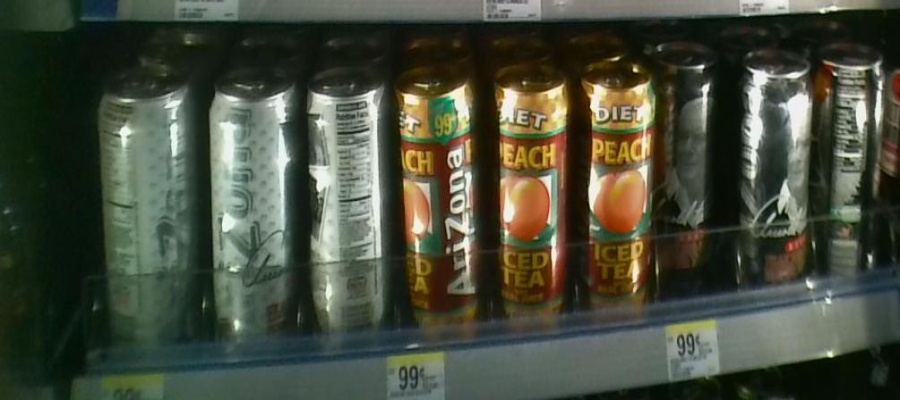bottle: (96, 67, 201, 352), (204, 56, 297, 363), (393, 55, 486, 355), (302, 53, 387, 356), (488, 48, 570, 334), (571, 47, 655, 323), (729, 33, 812, 305), (817, 39, 884, 290), (656, 35, 714, 286)
